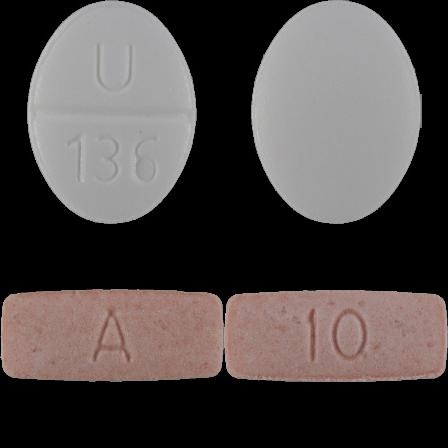61786-490: (0, 0, 224, 224)
